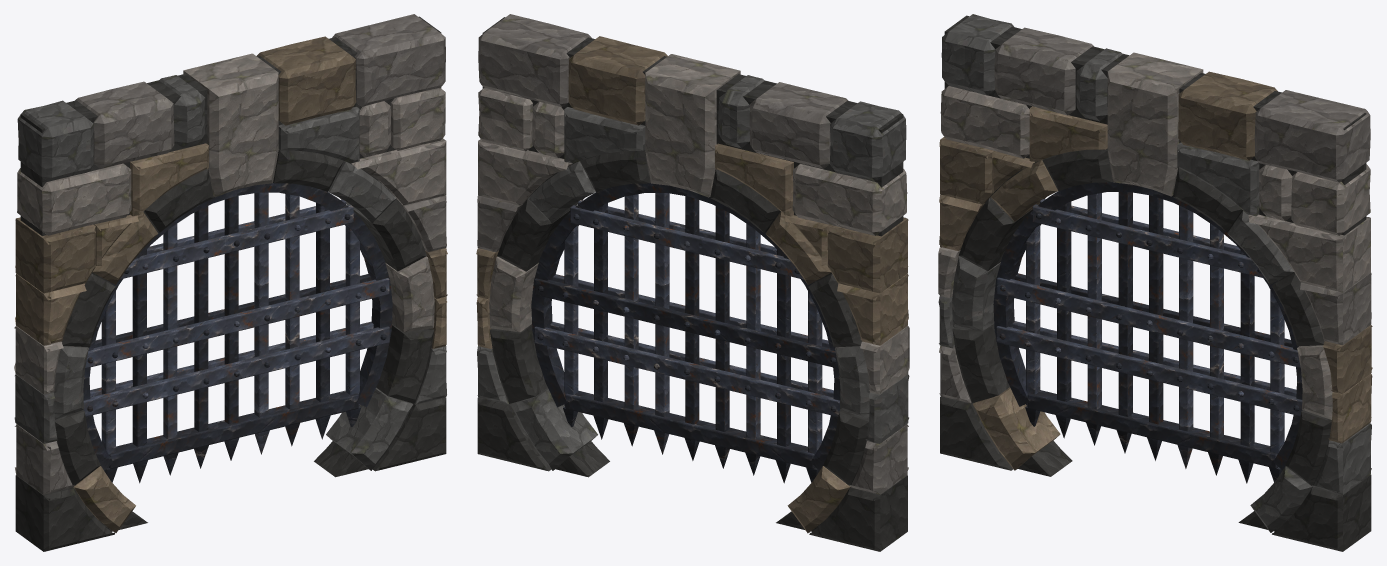
Rendered from portcullis.glb.
The picture shows the model from 3 angles, left to right: view 1: azimuth 30°, elevation 25°; view 2: azimuth 150°, elevation 25°; view 3: azimuth 330°, elevation 25°; orthographic projection.
Parts seen in each view (by area): view 1: frame, gate; view 2: frame, gate; view 3: frame, gate.
Boxes of the visible parts, left/top/right/bottom form: frame: left=14, top=14, right=447, bottom=551; gate: left=83, top=182, right=392, bottom=483; frame: left=476, top=14, right=909, bottom=551; gate: left=531, top=183, right=840, bottom=483; frame: left=938, top=14, right=1372, bottom=551; gate: left=993, top=182, right=1302, bottom=483.
Bounding box in the file's own units: 1.99 × 1.99 × 0.2837.
8 materials, 8 textured.
